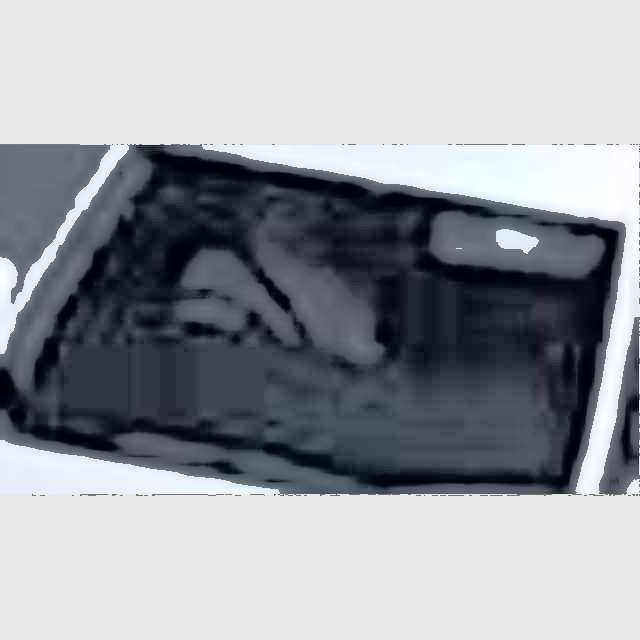pakai: (158, 178, 374, 378)
